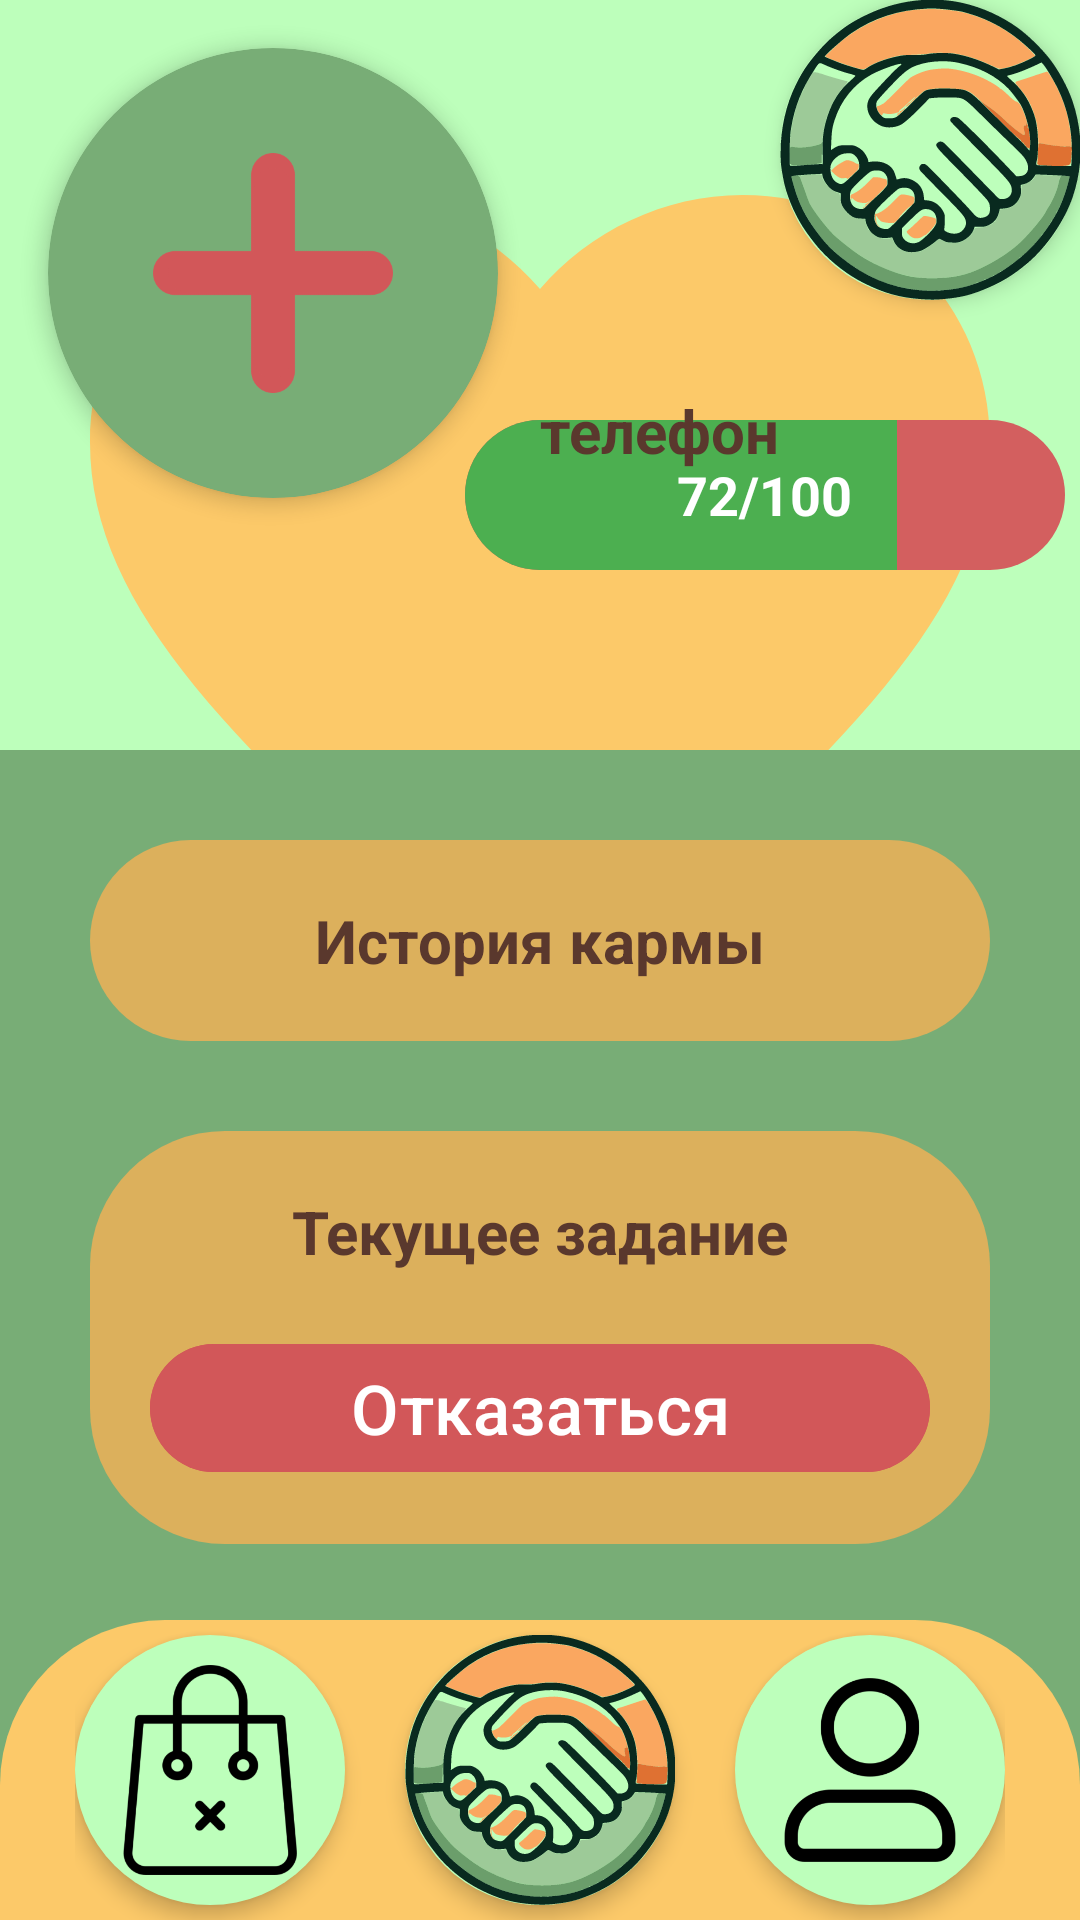

Named icons in this screenshot (1080px x 1920px) and their centers, (x=x, y=y):
plus: (x=273, y=273)
prof: (x=870, y=1770)
shop: (x=210, y=1770)
